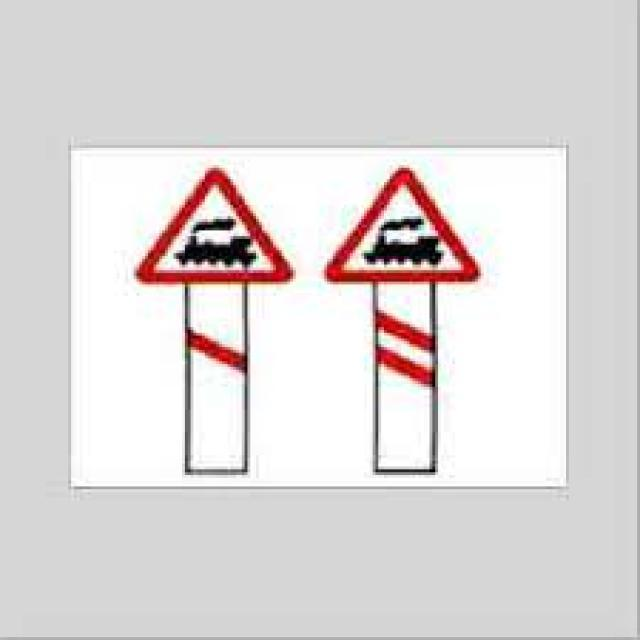unguarded level crossing: (135, 169, 297, 283)
